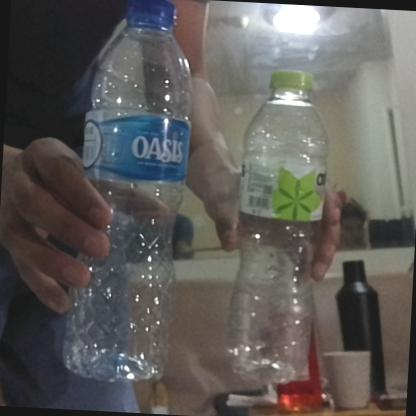plastic_bottles: (60, 0, 200, 385), (228, 65, 333, 386)
